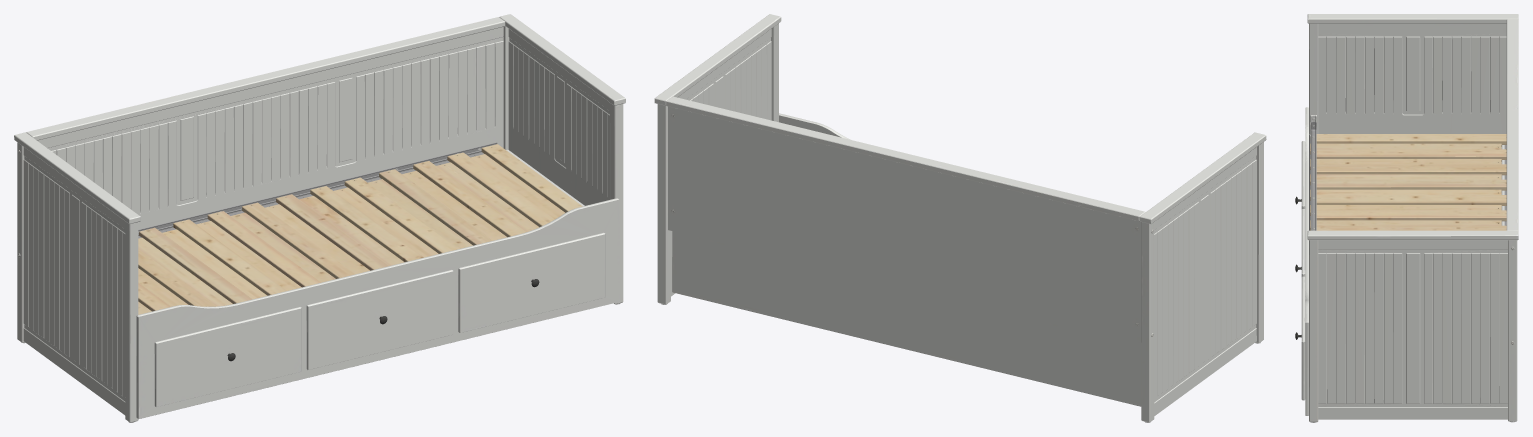
3 views of the same model, side by side, from view 1: azimuth 30°, elevation 25°; view 2: azimuth 150°, elevation 25°; view 3: azimuth 270°, elevation 25° (orthographic). The views are drawn at different scales.
Parts seen in each view (by area): view 1: world; view 2: world; view 3: world.
Boxes of the visible parts, x1=… form: world: x1=14, y1=14, x2=625, y2=422; world: x1=654, y1=14, x2=1266, y2=422; world: x1=1295, y1=14, x2=1518, y2=422.
Bounding box in the file's own units: 2.09 × 0.83 × 0.89.
1 material, 1 textured.
